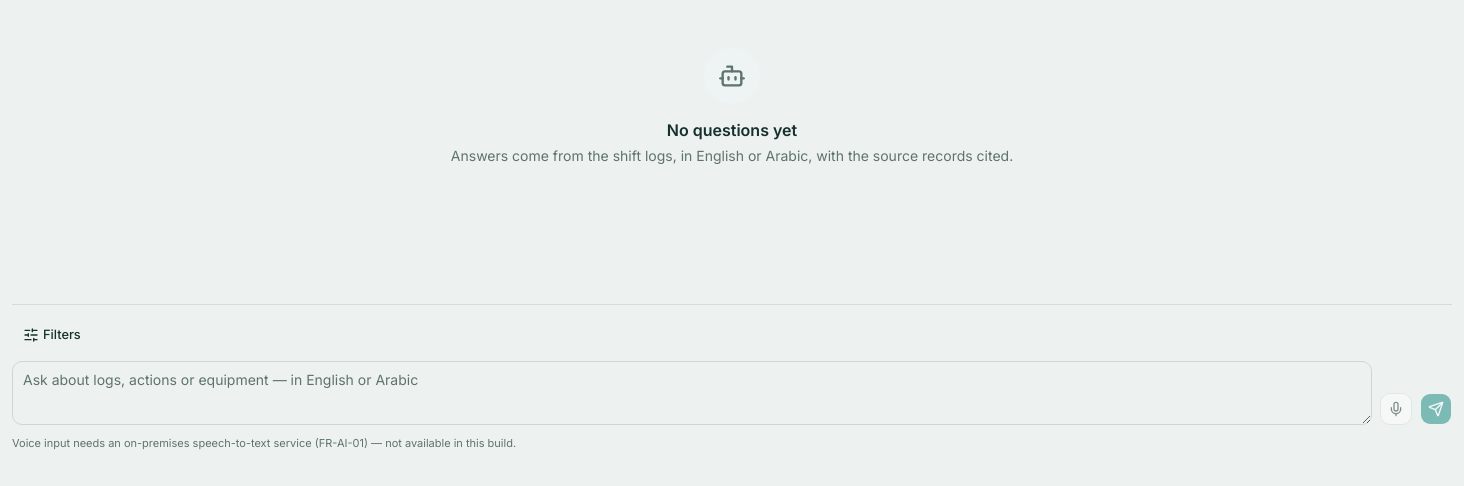
Test case: AssistantChat › renders an Arabic answer right-to-left
Type "ما الذي حدث؟" into the text box named "Ask the assistant".
click(692, 393); type("ما الذي حدث؟")  # box [12, 361, 1372, 425]
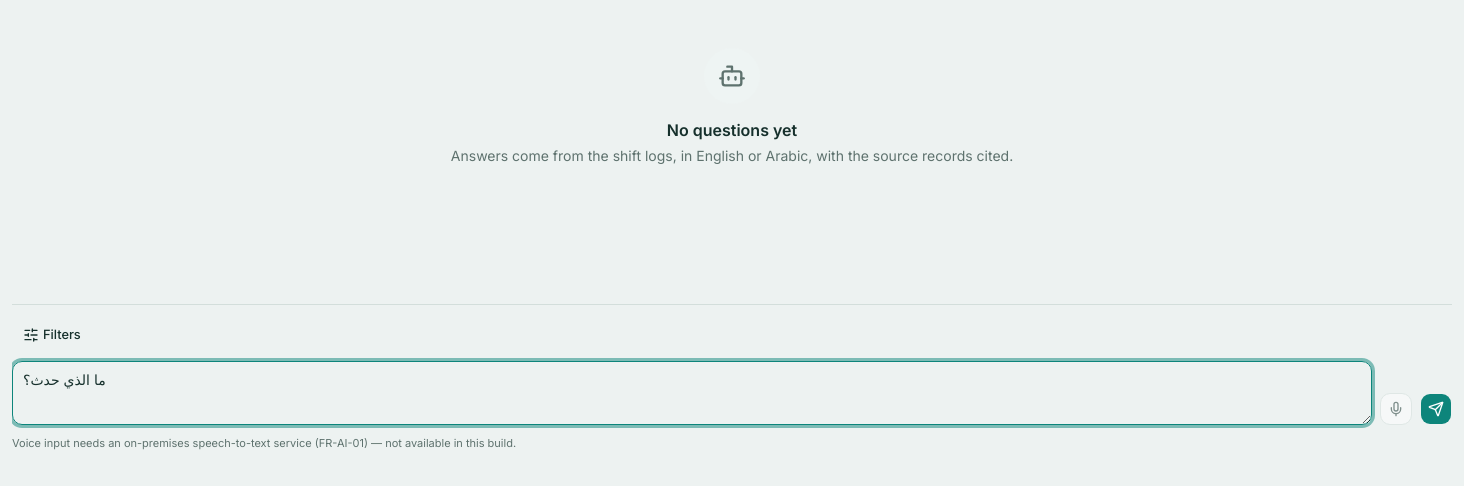
Click the button named "Send question".
click(1436, 409)  # box [1420, 393, 1452, 425]
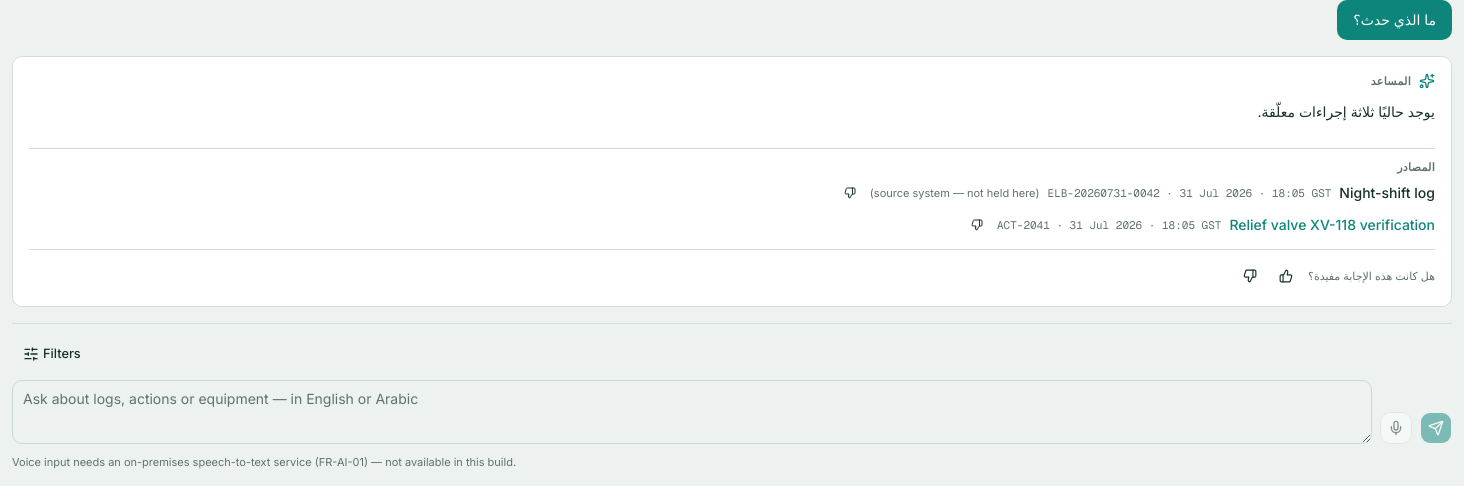
Expected: the text "المصادر" is shown, [1397, 160, 1435, 174]
